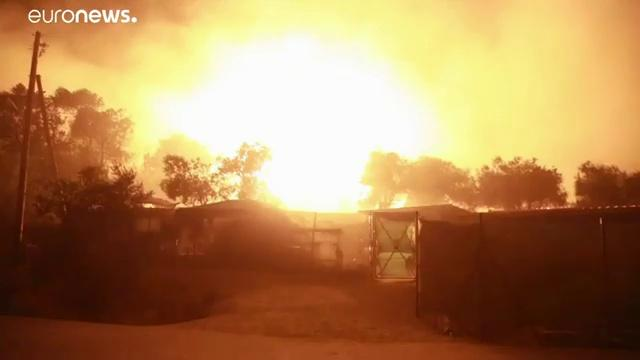fire: (219, 62, 406, 186)
